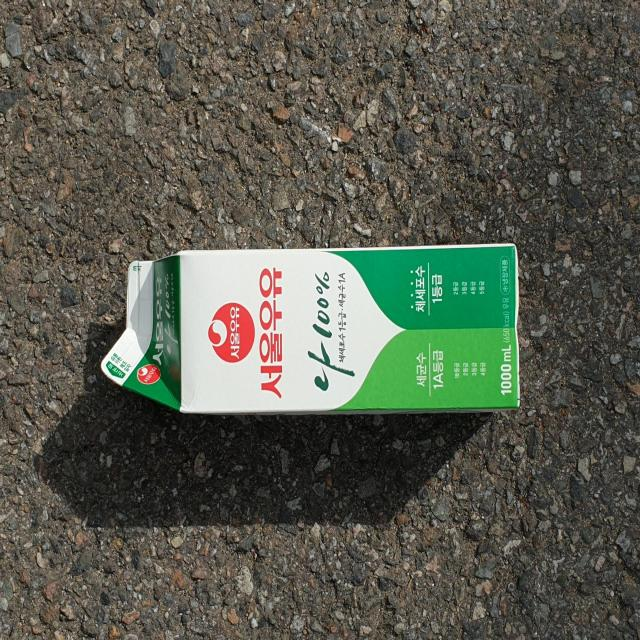paperpack: (101, 244, 520, 414)
